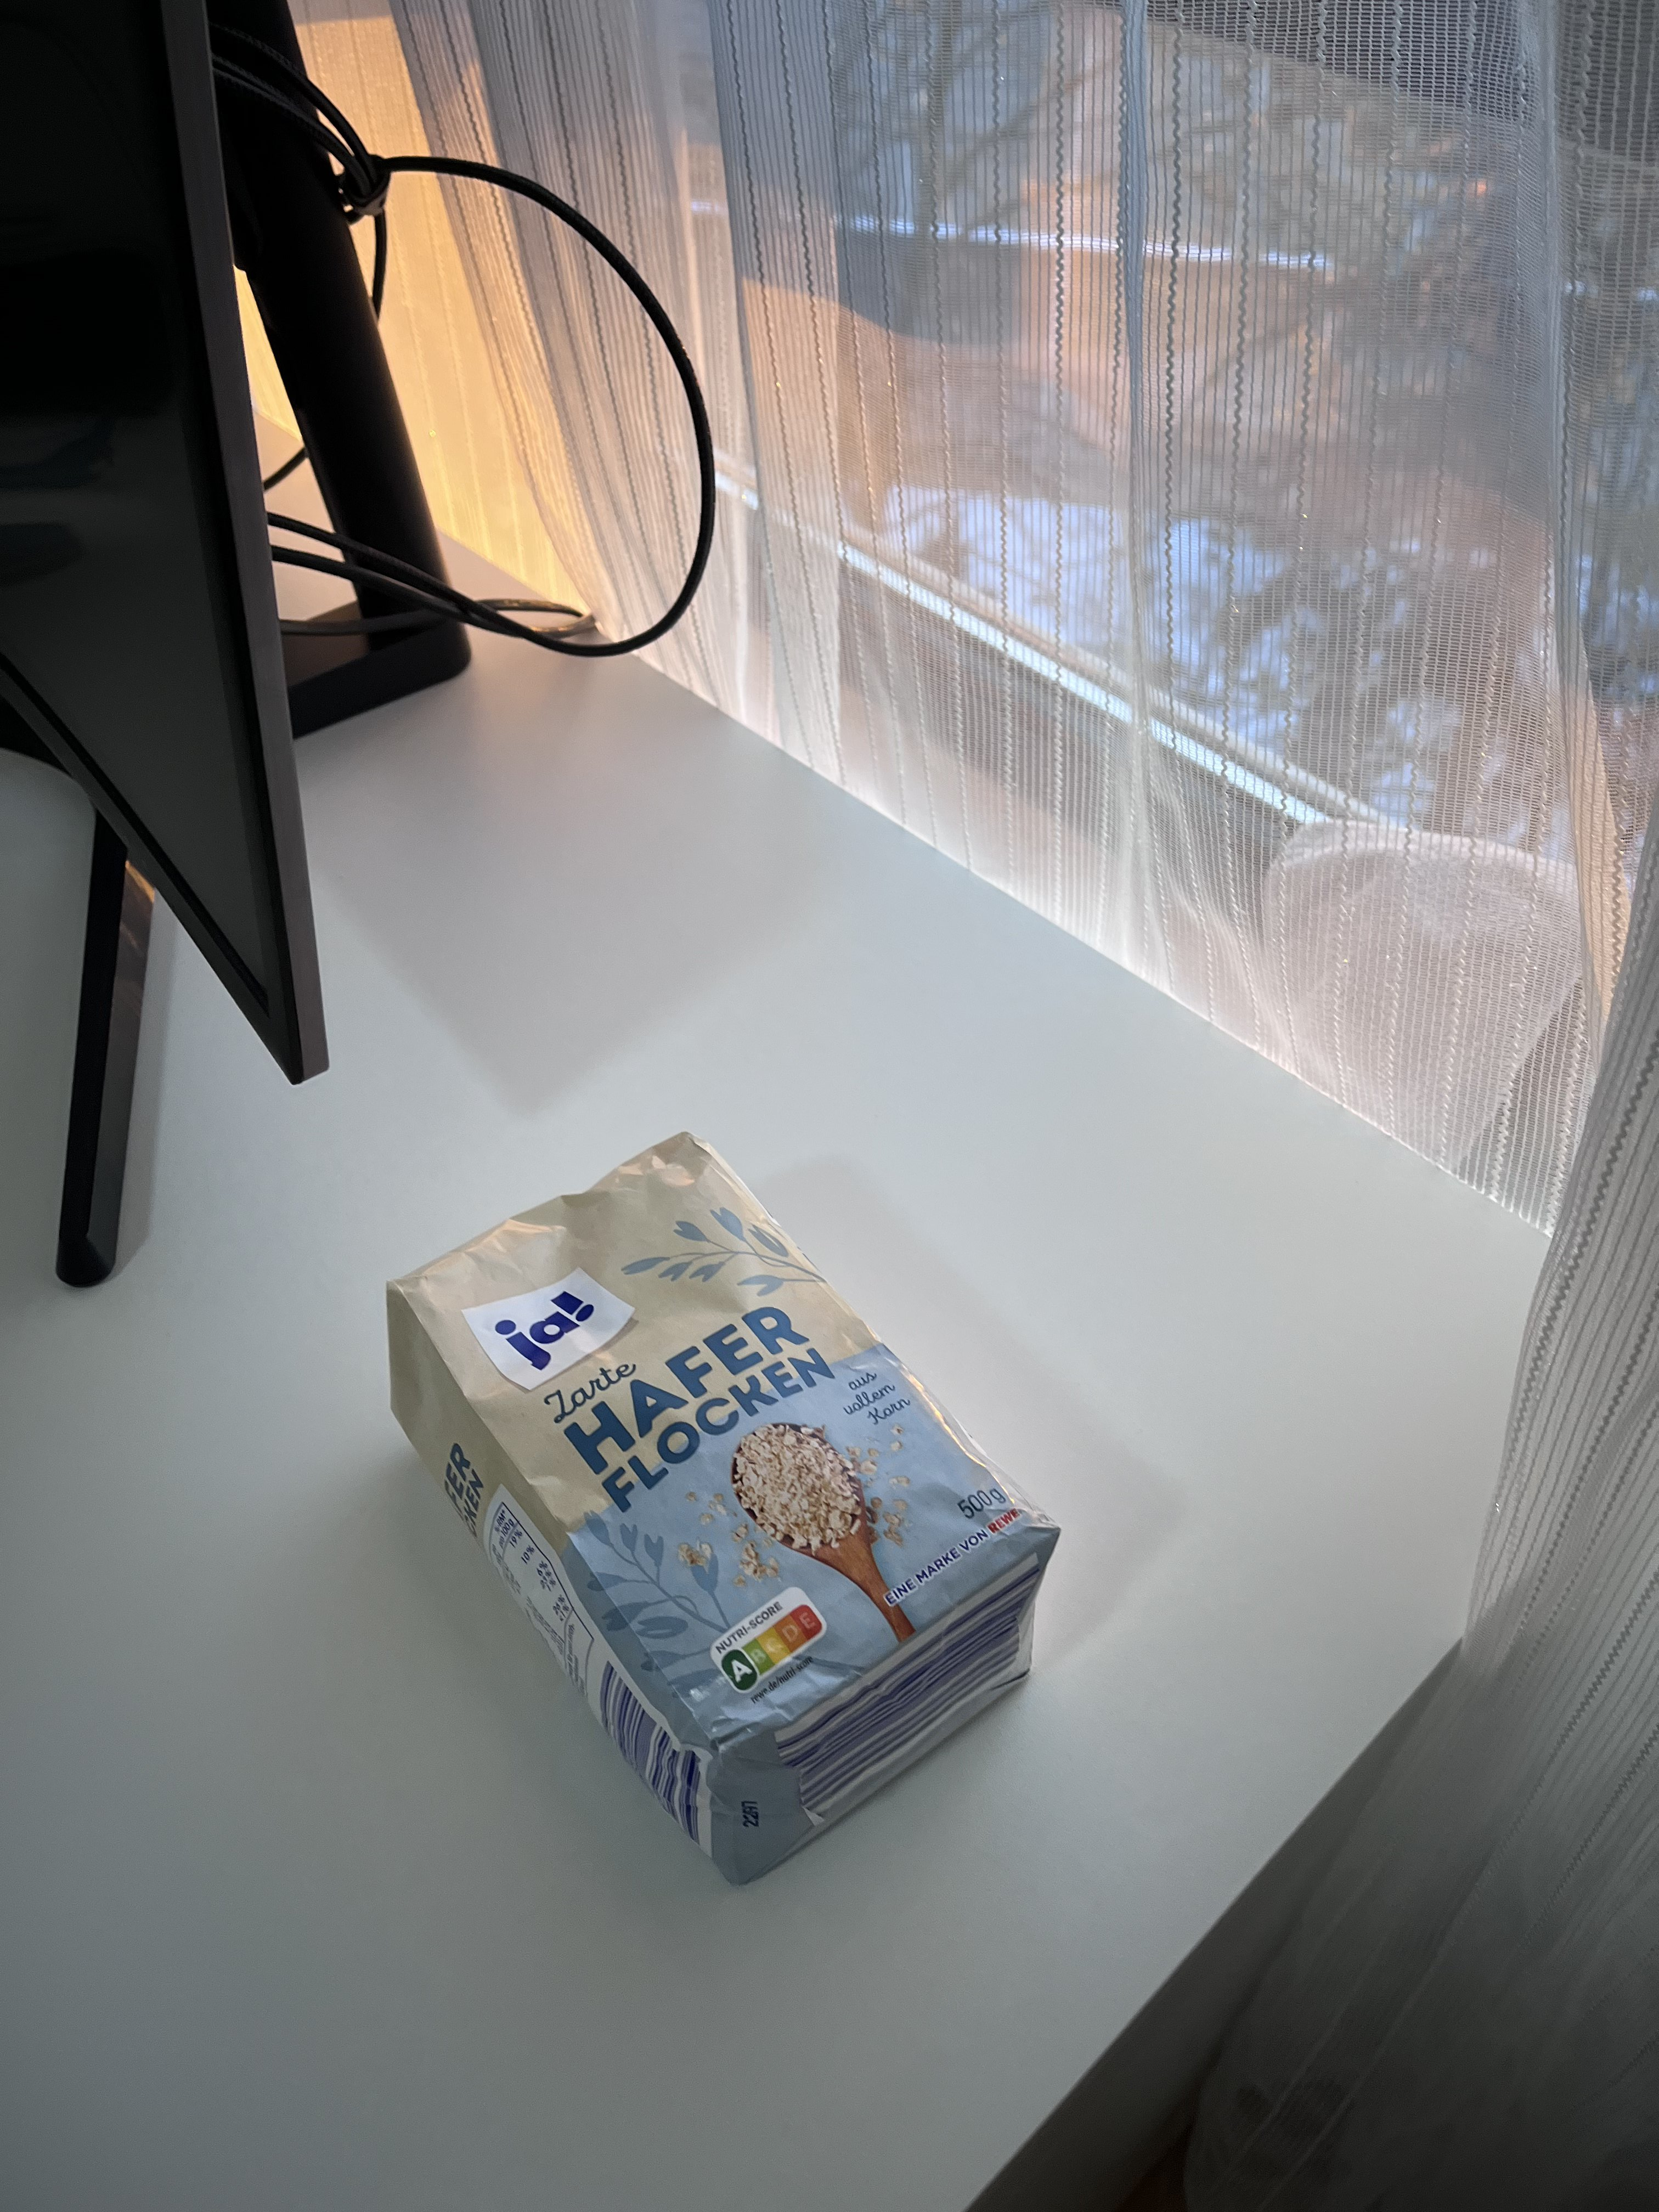haferflocken_ja: (382, 1130, 1058, 1881)
